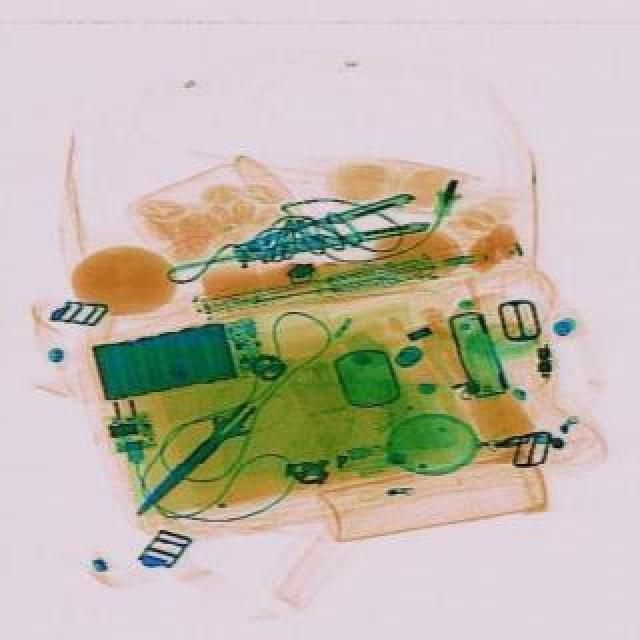knife: (120, 388, 266, 528)
